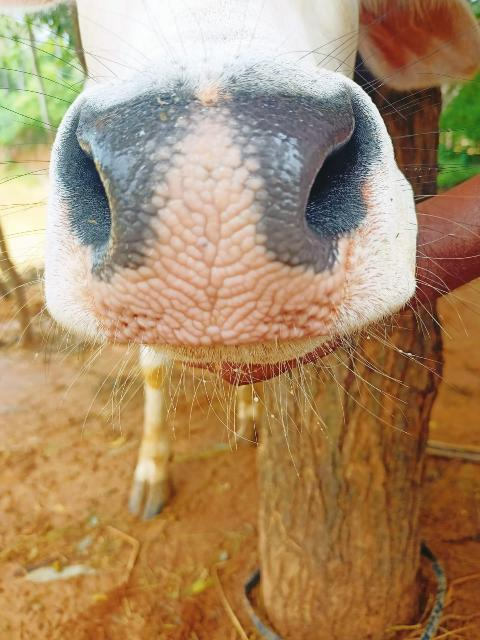Muzzle: (88, 104, 316, 336)
